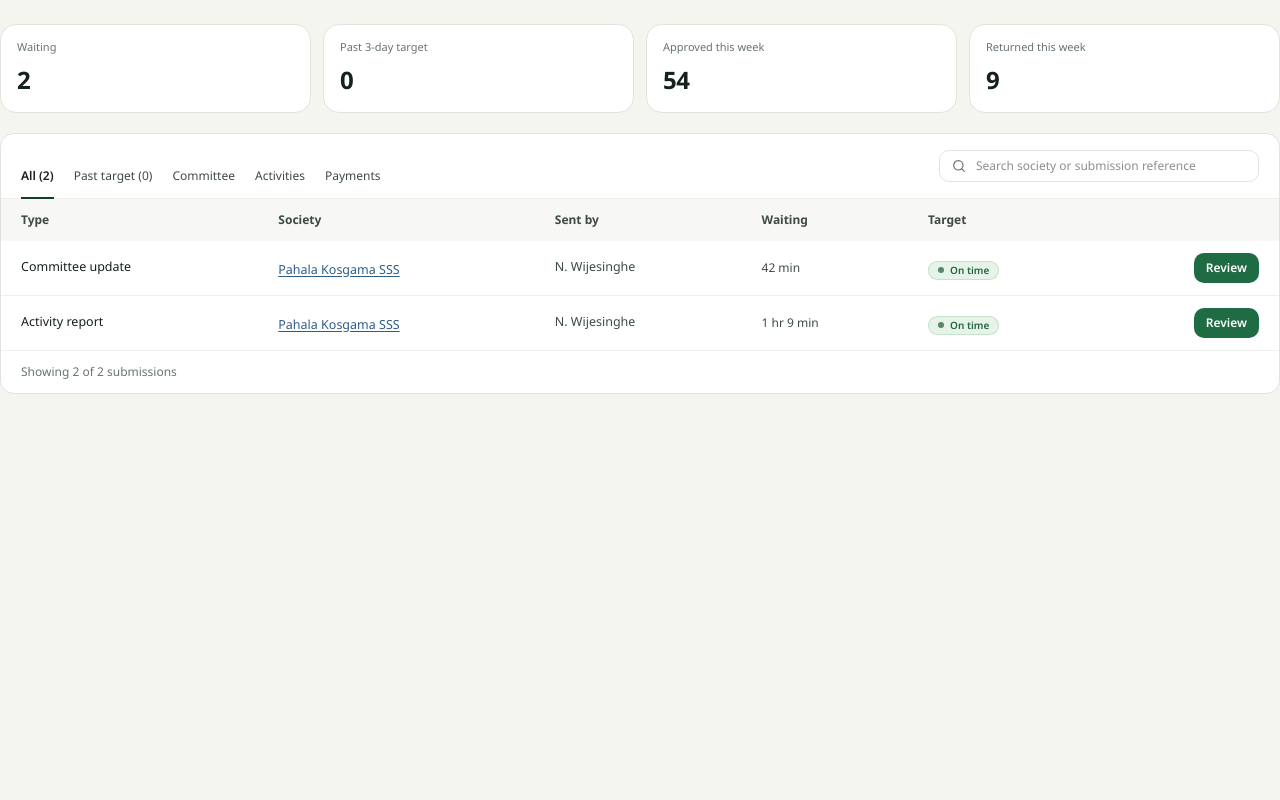
Test: ReviewQueue › shows the active filters when no submissions match
This screenshot has width=1280, height=800.
Type "SUB-9999" into the search field named "Search submissions" at [1099, 166], box [939,150,1259,182]
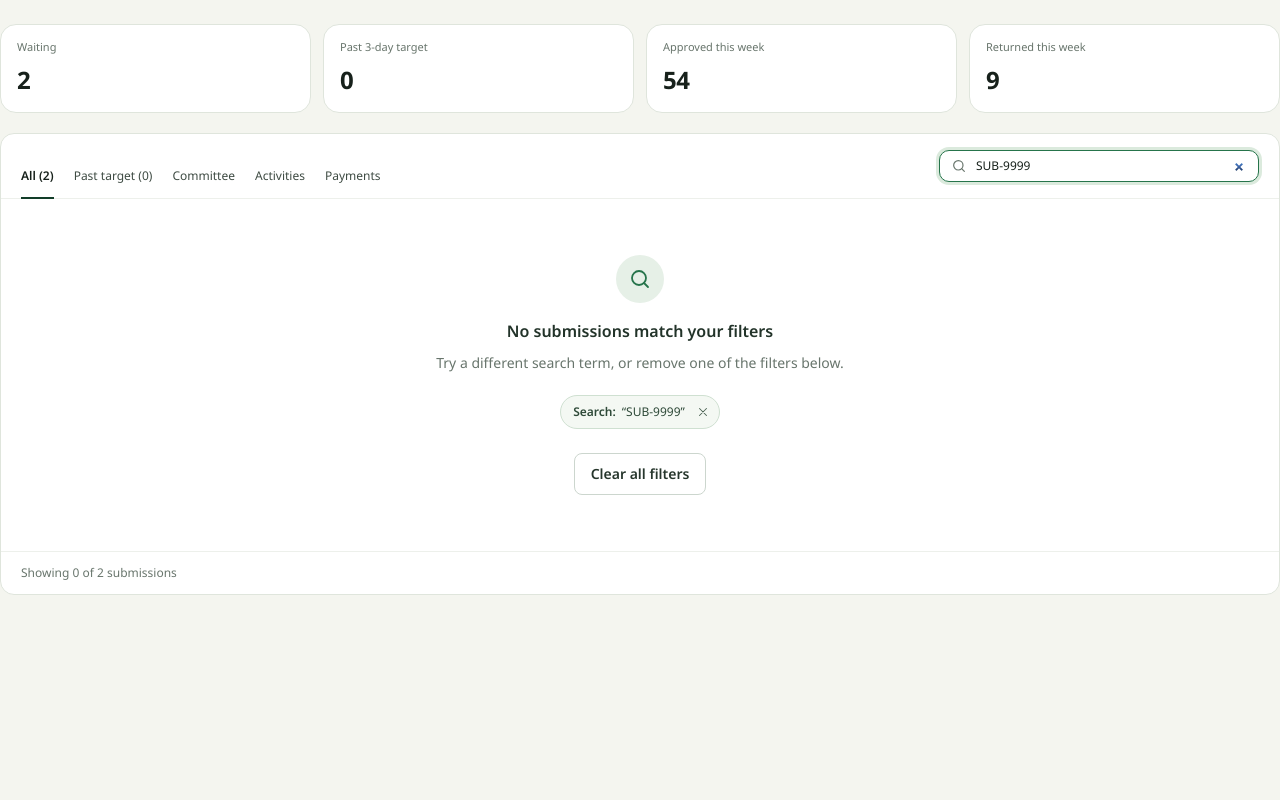
Result: the heading "No submissions match your filters" is shown at [507,318,773,342]
Result: the text "“SUB-9999”" is shown at [622,404,685,420]
Click the button "Clear all filters" at [640, 474], box [574,452,706,494]
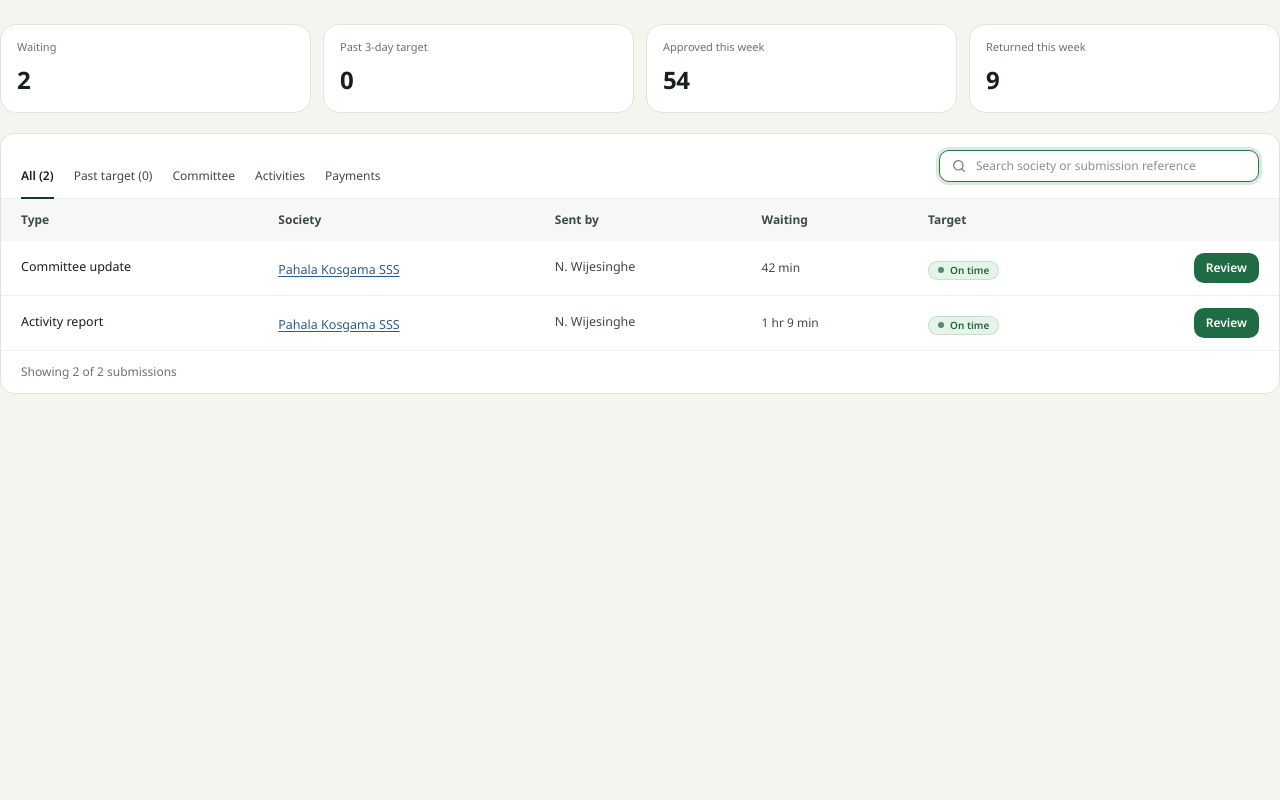
Result: the number of links named "Review SUB-" is 2 at [1194,252,1259,282]; [1194,308,1259,338]
